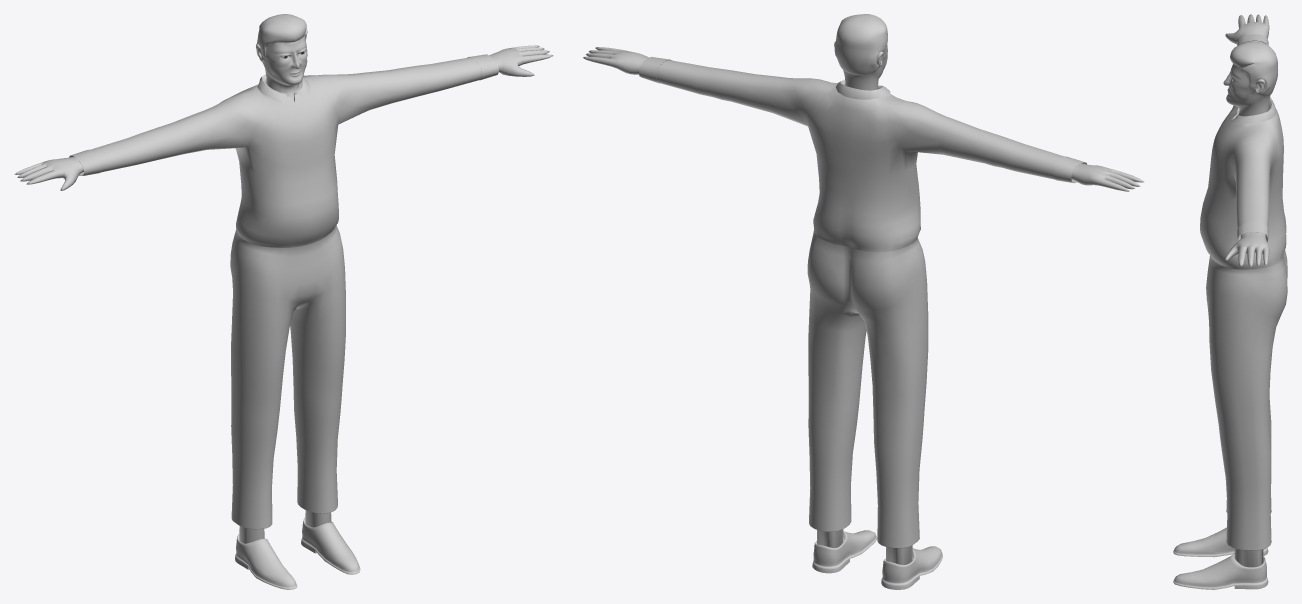
3 renders of one model, left to right at view 1: azimuth 30°, elevation 25°; view 2: azimuth 150°, elevation 25°; view 3: azimuth 270°, elevation 25°, orthographic. The views are drawn at different scales.
Visible parts, largest first — view 1: Personnale3_low; view 2: Personnale3_low; view 3: Personnale3_low.
Part boxes in pixels (box(x1,y1,x2,y2)): Personnale3_low: box(14, 14, 553, 589); Personnale3_low: box(583, 14, 1143, 589); Personnale3_low: box(1173, 14, 1287, 589).
Bounding box in the file's own units: 156 × 150 × 29.79.
